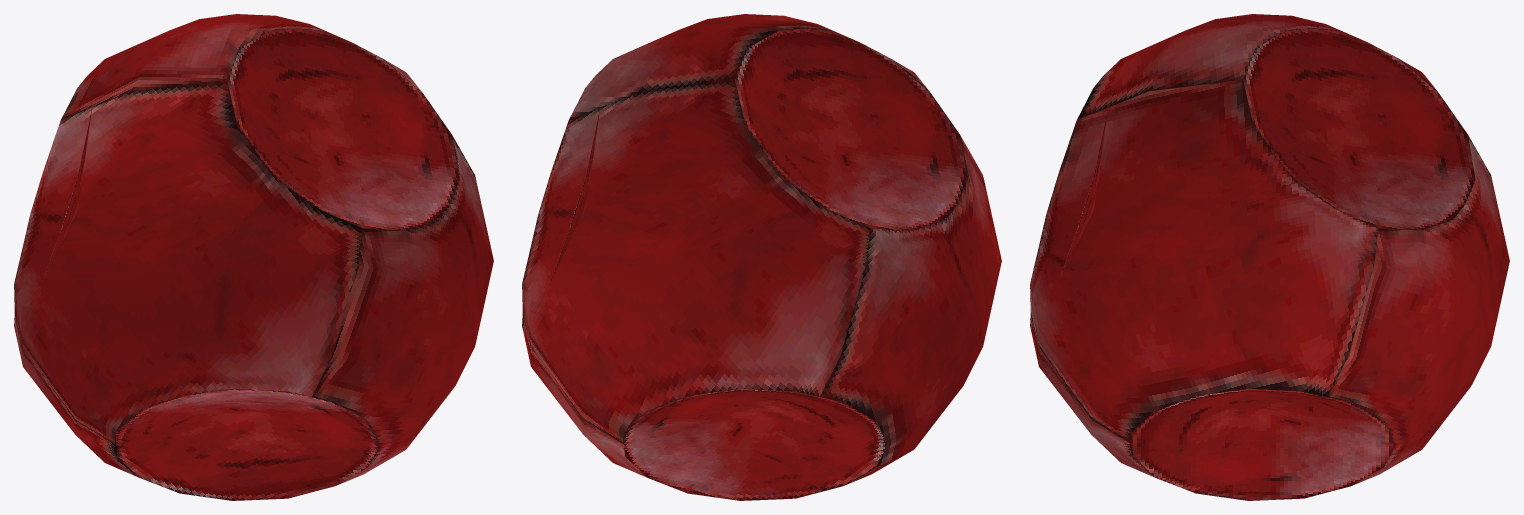
Rendered from ps2_save-icons_harrypotterquidditchworldcup.glb.
3 renders of one model, left to right at view 1: azimuth 30°, elevation 25°; view 2: azimuth 150°, elevation 25°; view 3: azimuth 270°, elevation 25°, orthographic.
Parts seen in each view (by area): view 1: slime1.ico; view 2: slime1.ico; view 3: slime1.ico.
Boxes of the visible parts, x1,y1,x2,y2 form: slime1.ico: [14, 14, 493, 500]; slime1.ico: [522, 14, 1001, 500]; slime1.ico: [1030, 14, 1509, 500].
Size of the model in its own units: 4.87 by 4.46 by 4.75.
Materials: 1 (1 with a texture image).
